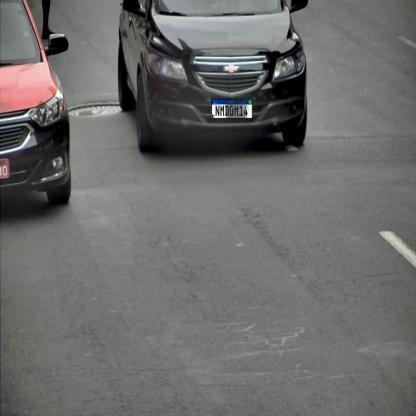PlacaM: (211, 99, 253, 120)
